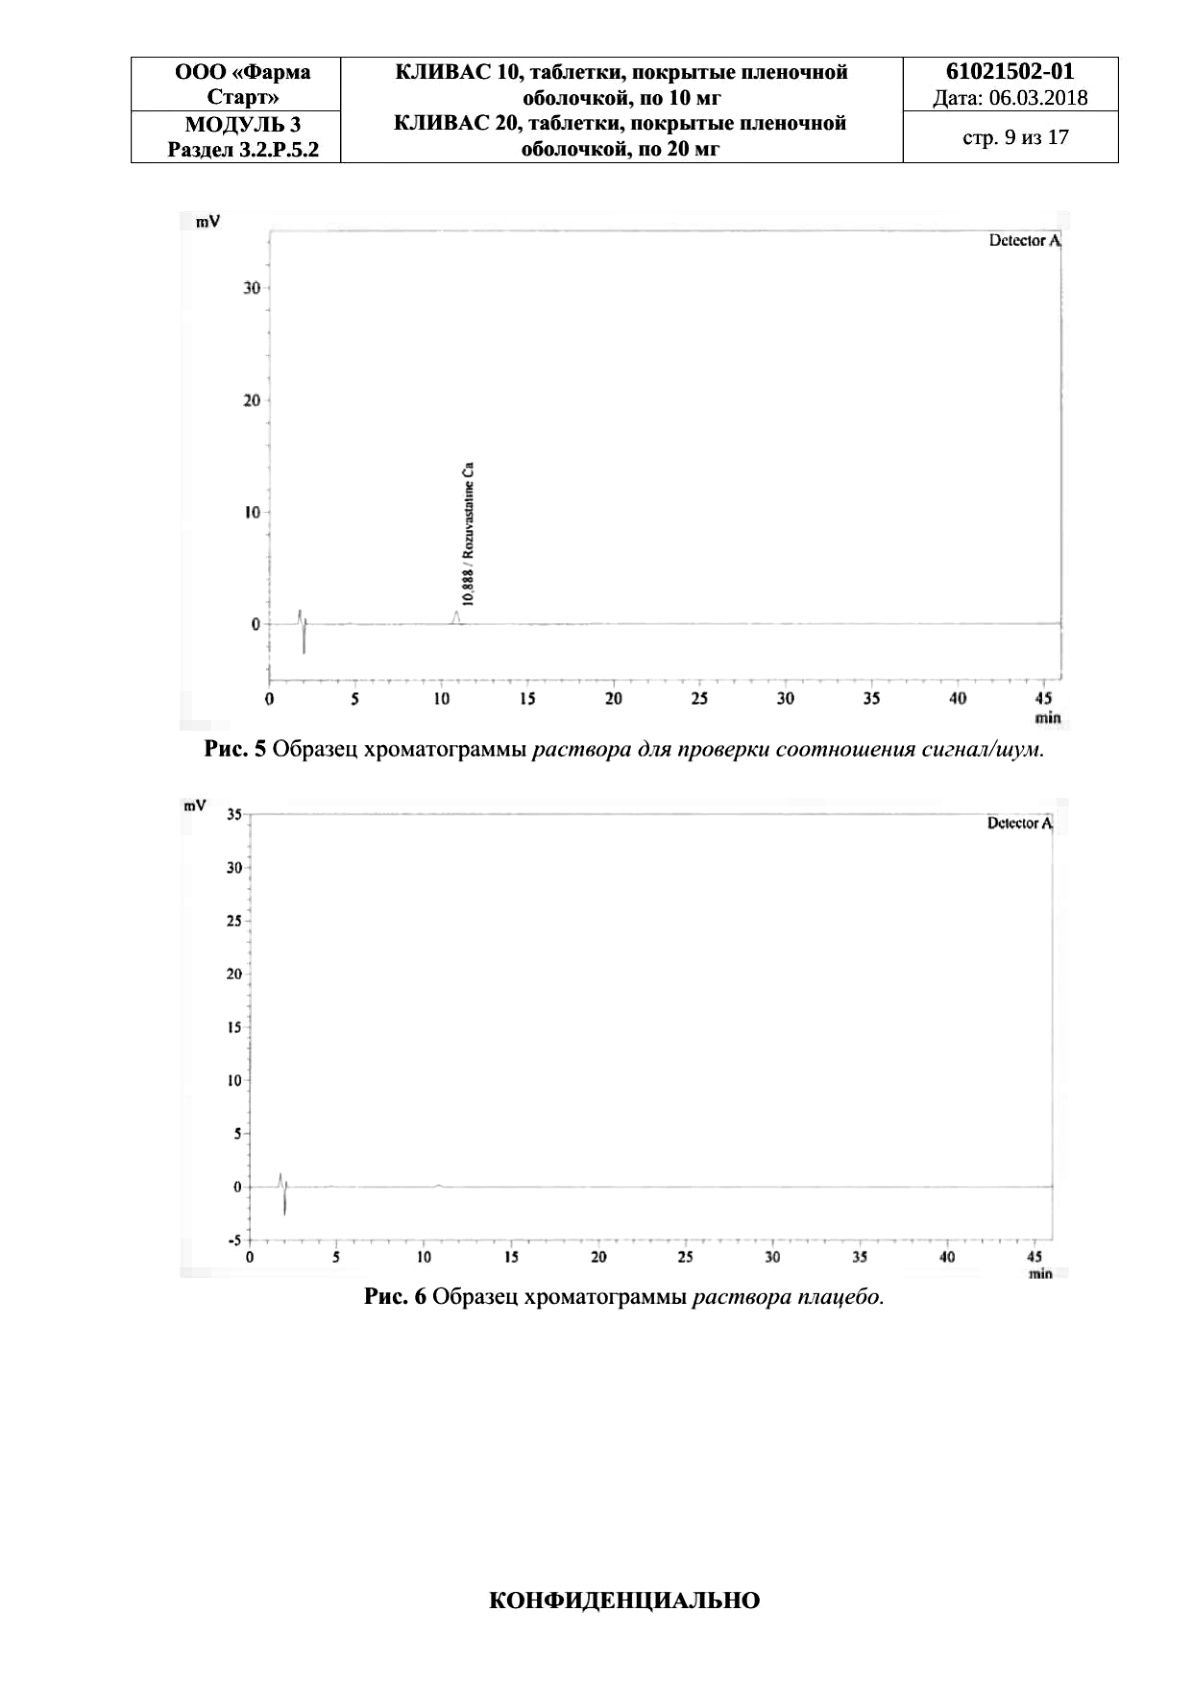merged_cells: (129, 56, 1119, 164)
